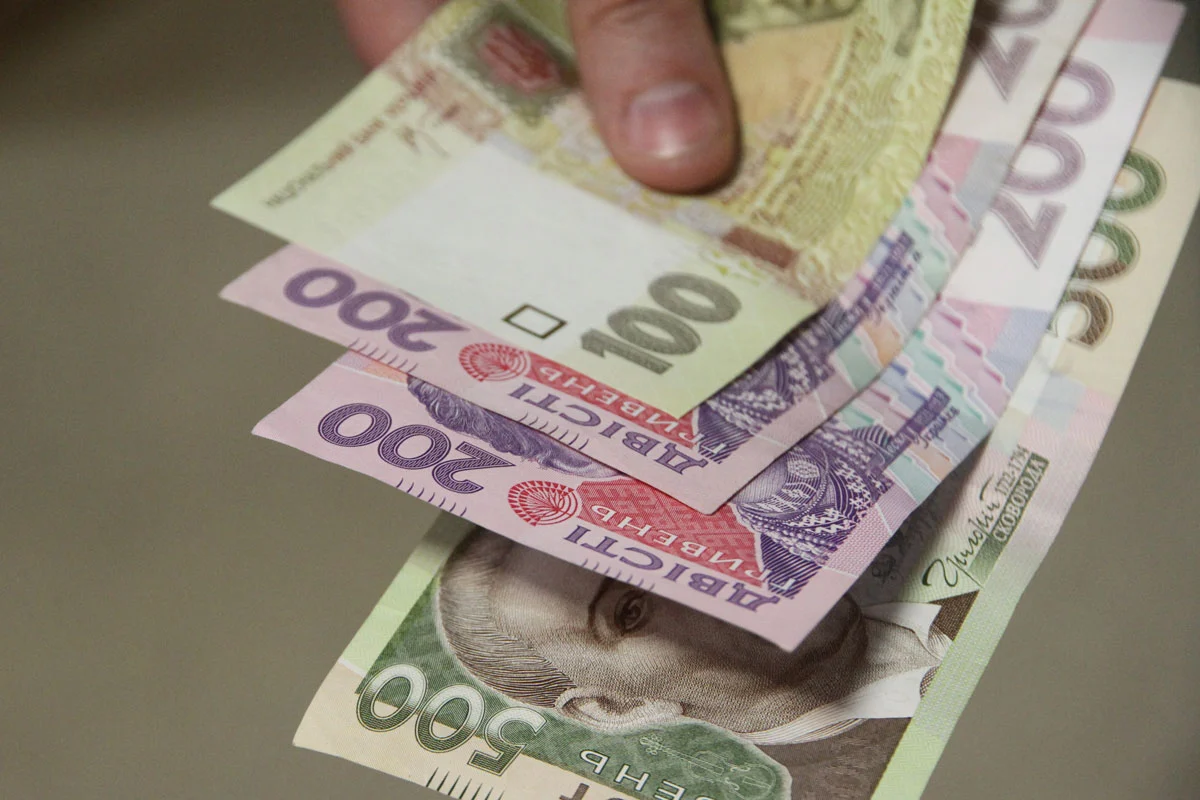bn_100: (172, 0, 826, 367)
bn_200: (249, 343, 821, 589), (210, 226, 765, 445)
bn_500: (283, 502, 650, 759)
